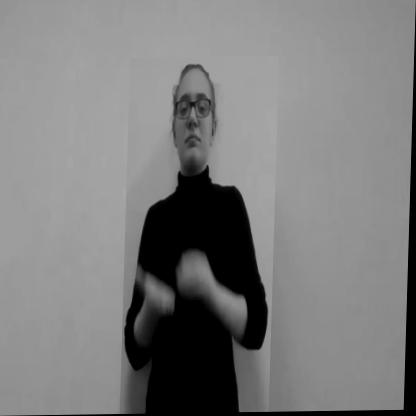ExcuseMe: (122, 57, 280, 414)
